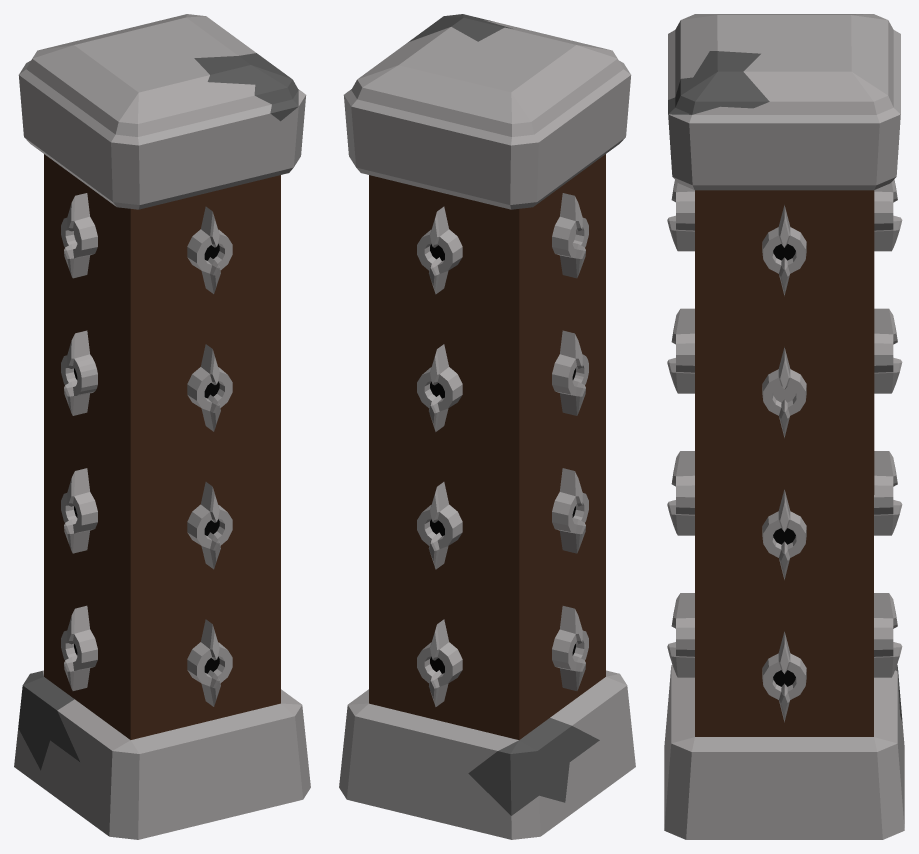
The model's file is StaticProjectileTrap.fbx.
The picture shows the model from 3 angles, left to right: view 1: azimuth 30°, elevation 25°; view 2: azimuth 150°, elevation 25°; view 3: azimuth 270°, elevation 25°; orthographic projection. The views are drawn at different scales.
Visible parts, largest first — view 1: StaticProjectileTrap; view 2: StaticProjectileTrap; view 3: StaticProjectileTrap.
Boxes of the visible parts, x1,y1,x2,y2 form: StaticProjectileTrap: (14, 14, 310, 839); StaticProjectileTrap: (339, 14, 635, 839); StaticProjectileTrap: (664, 14, 904, 839).
Size of the model in its own units: 46.97 by 161 by 46.97.
